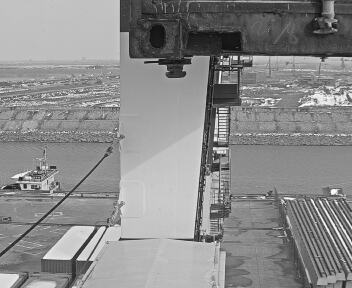twist_lock_1: (150, 54, 197, 85)
